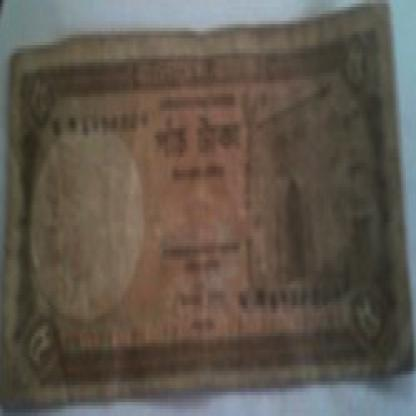Five Taka: (18, 315, 58, 382), (354, 288, 390, 354), (22, 62, 55, 128)
